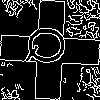Q: (25, 25, 75, 66)
